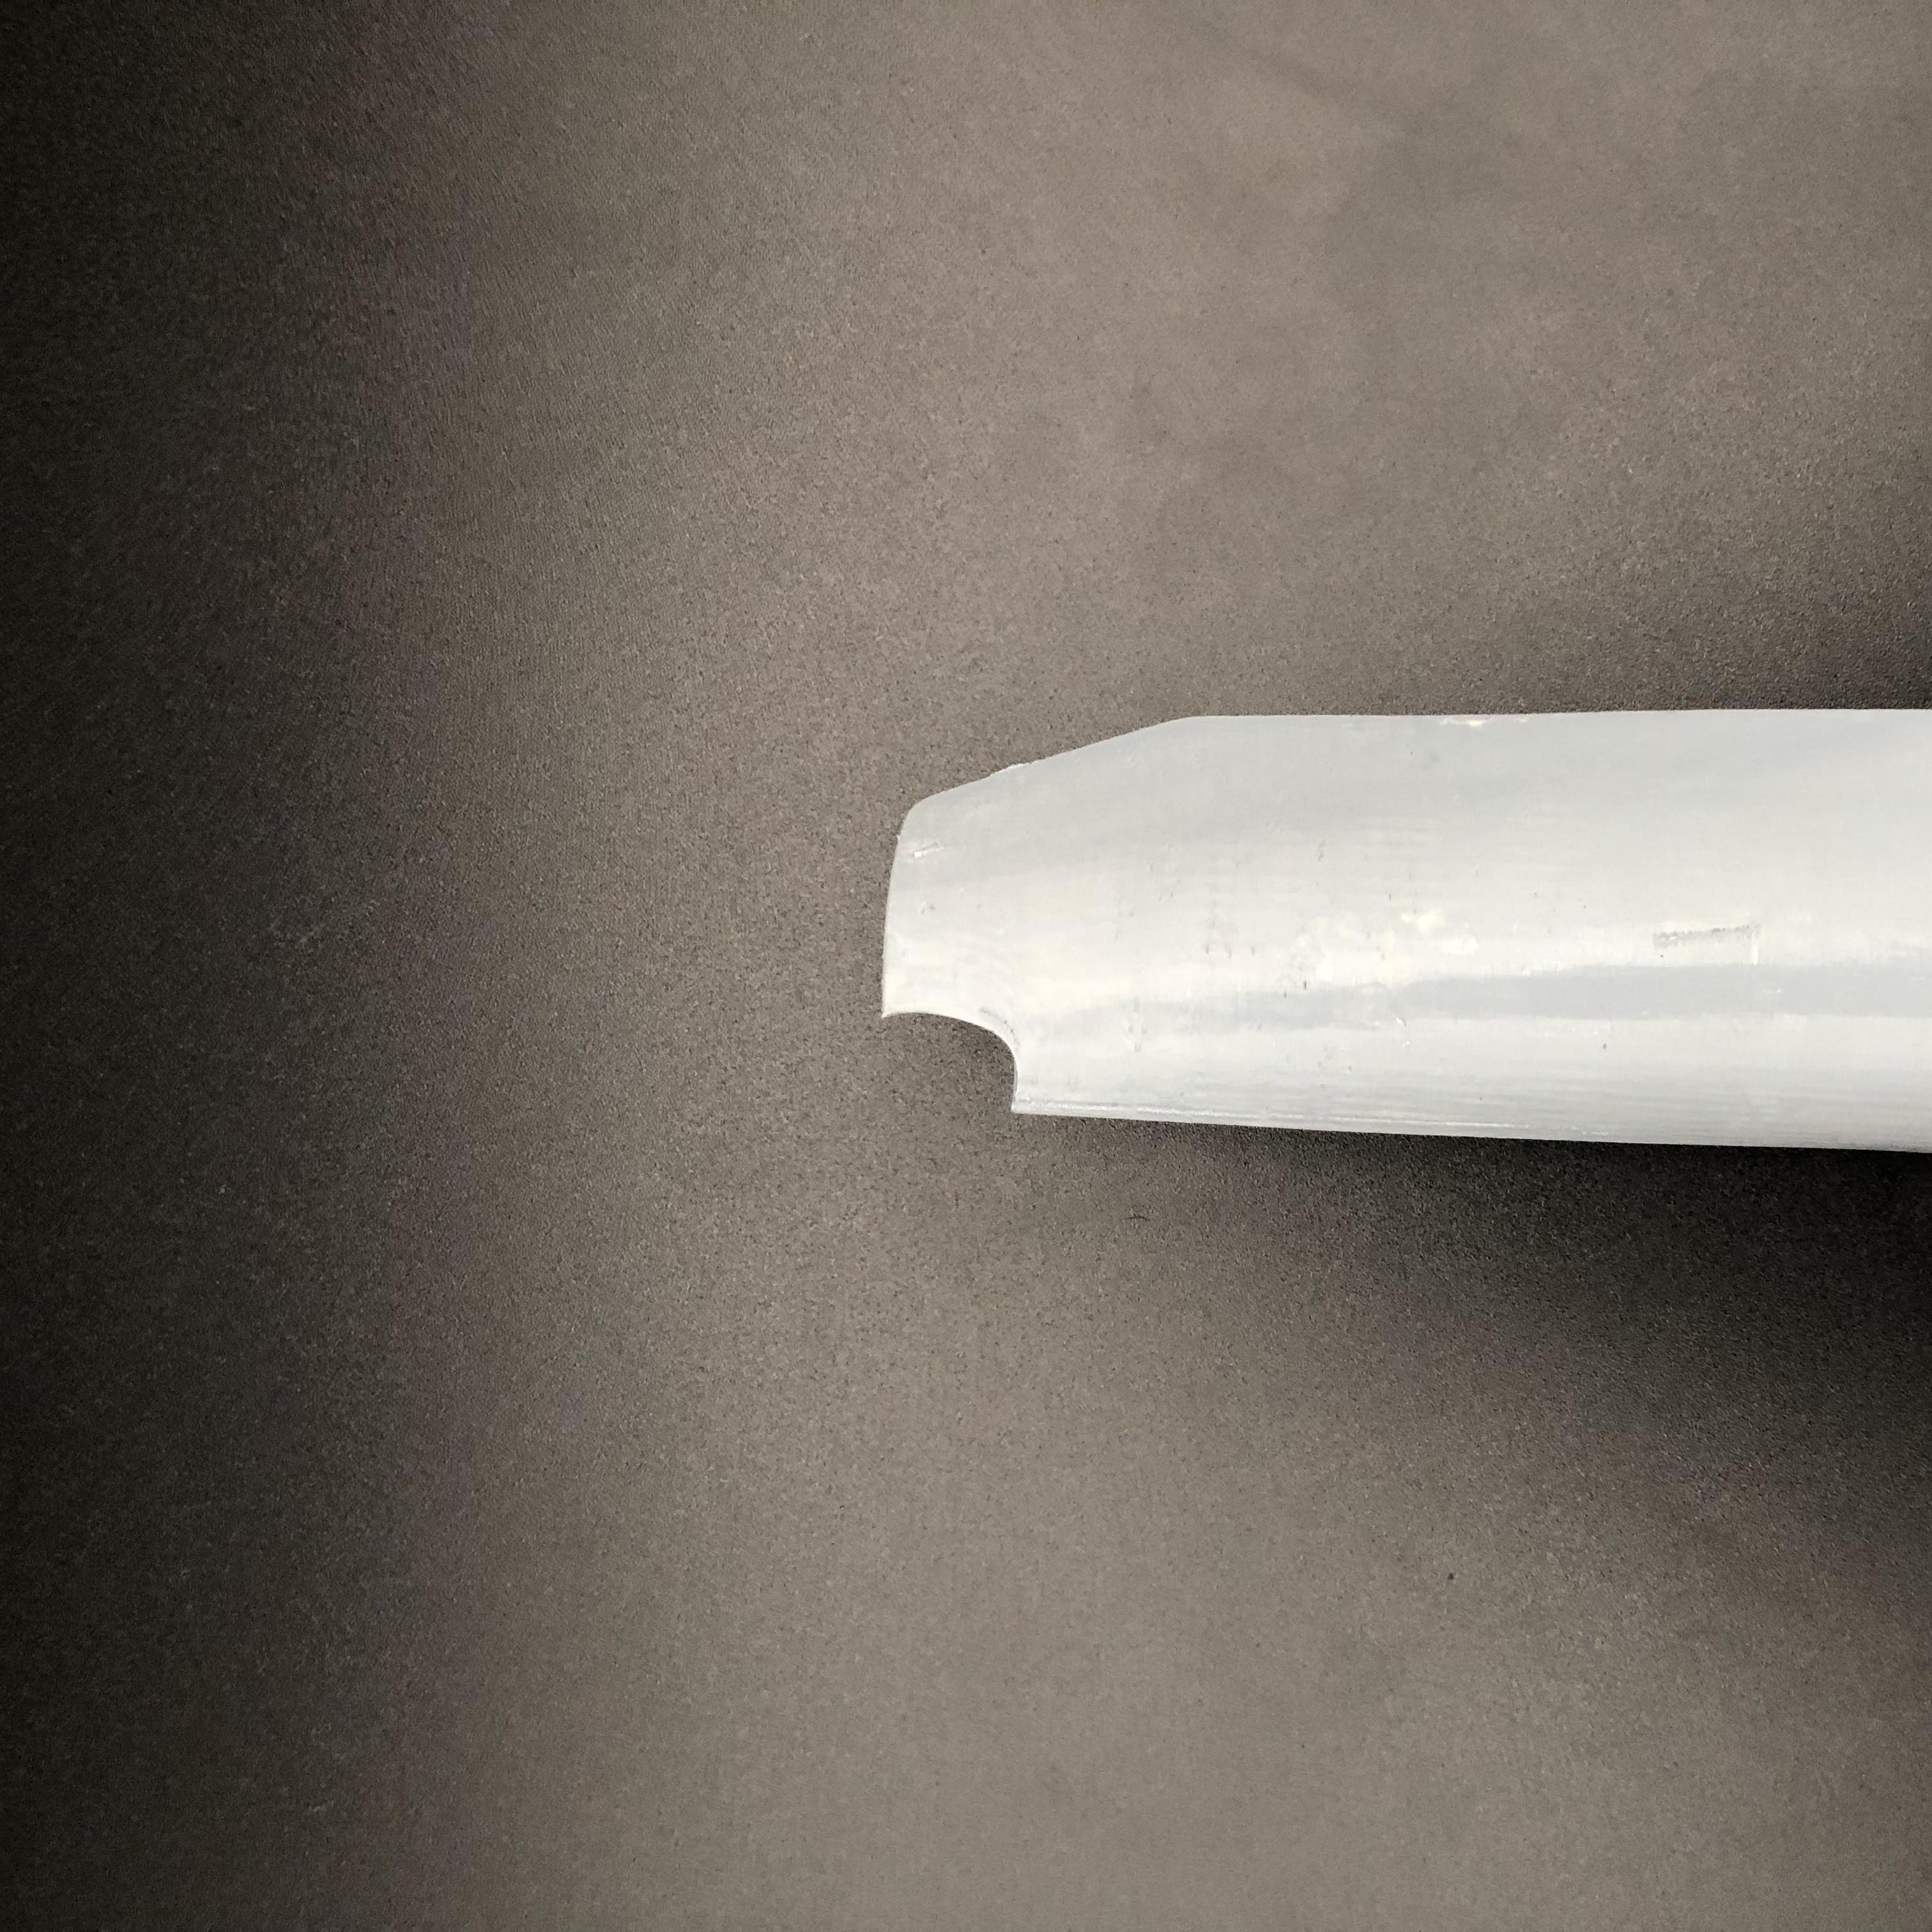fracture: (874, 975, 1035, 1120)
